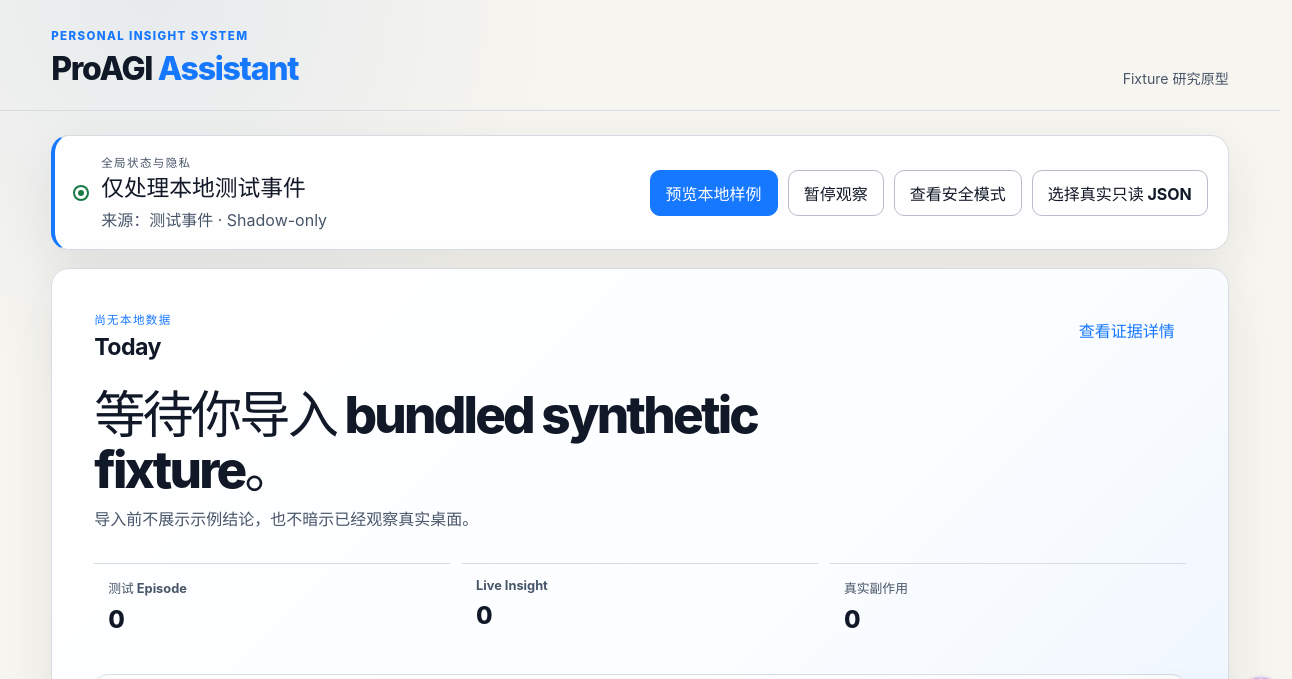
Test case: runnable Insight Loop UI › previews and commits the bundled fixture, applies a correction, then replays
The width and height of the screenshot is (1292, 679).
Click the button "预览本地样例": x=714, y=192 [650,170,778,216]
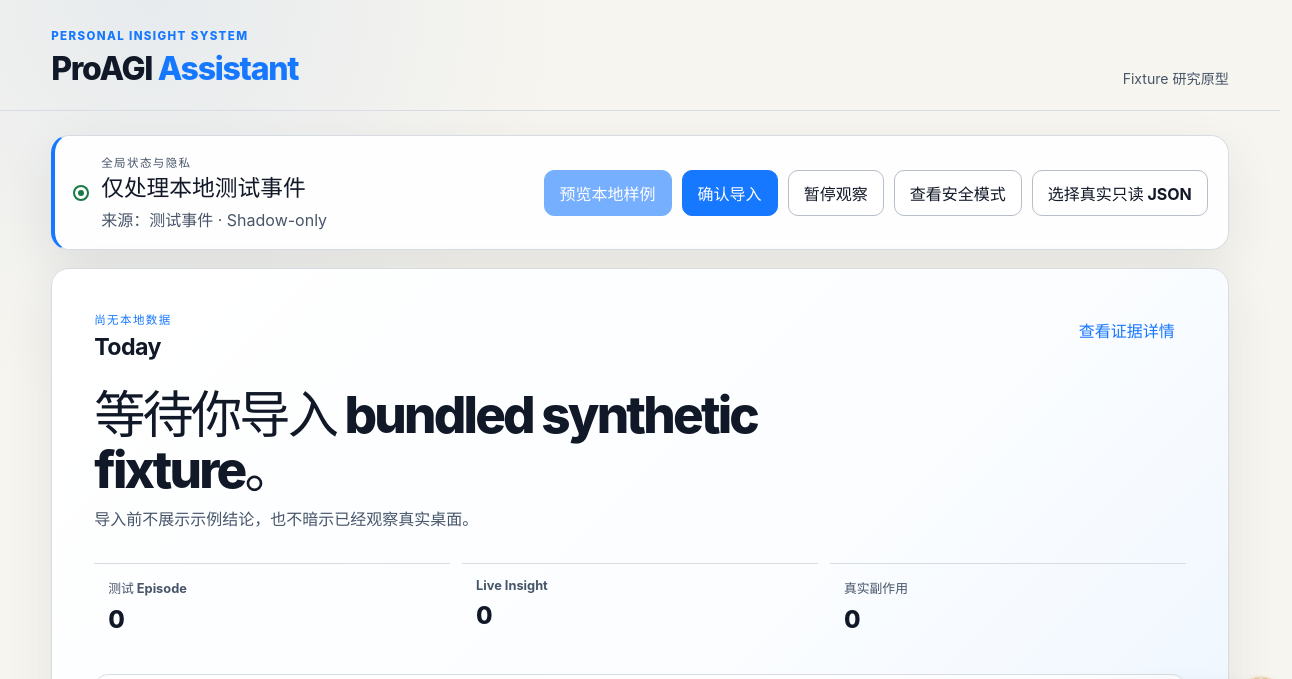
Click the button "确认导入": x=730, y=192 [682,170,778,216]
(page scrolled)
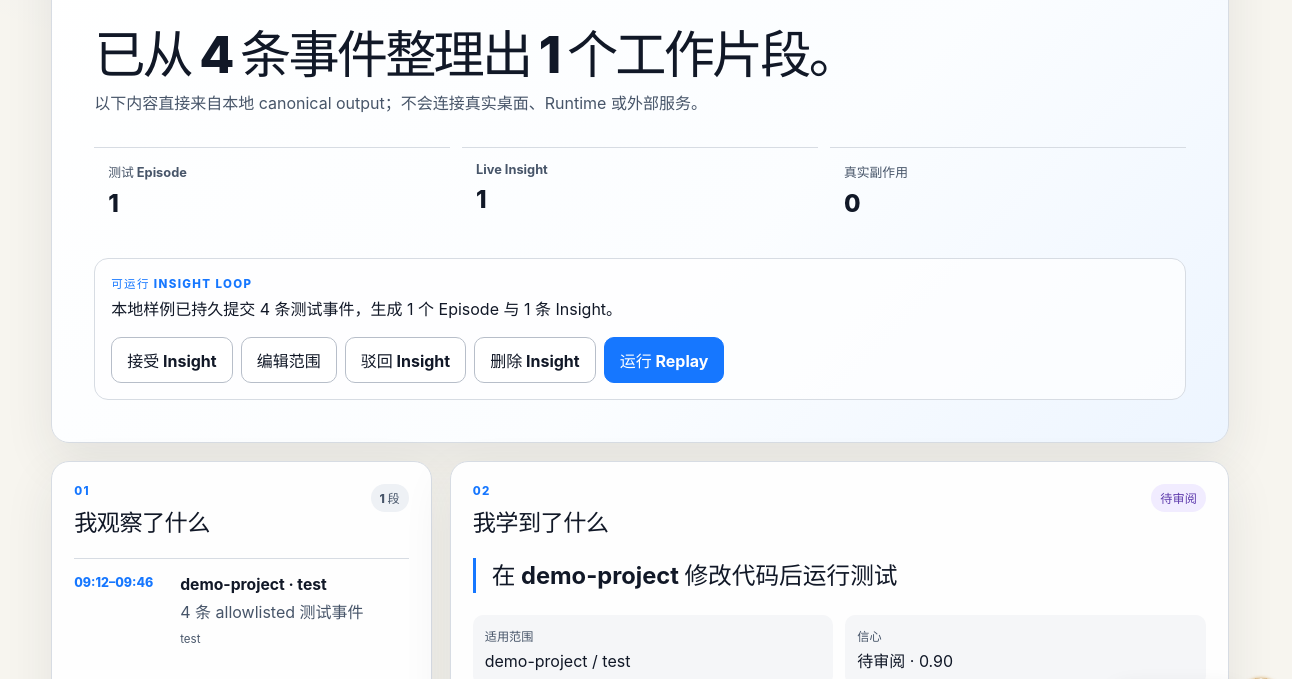
Check: the text "本地样例已持久提交 4 条测试事件，生成 1 个 Episode 与 1 条 Insight。" is shown, box [111,299,622,319]
Check: the button "接受 Insight" is enabled
Click the button "接受 Insight": x=172, y=360 [111,337,233,383]
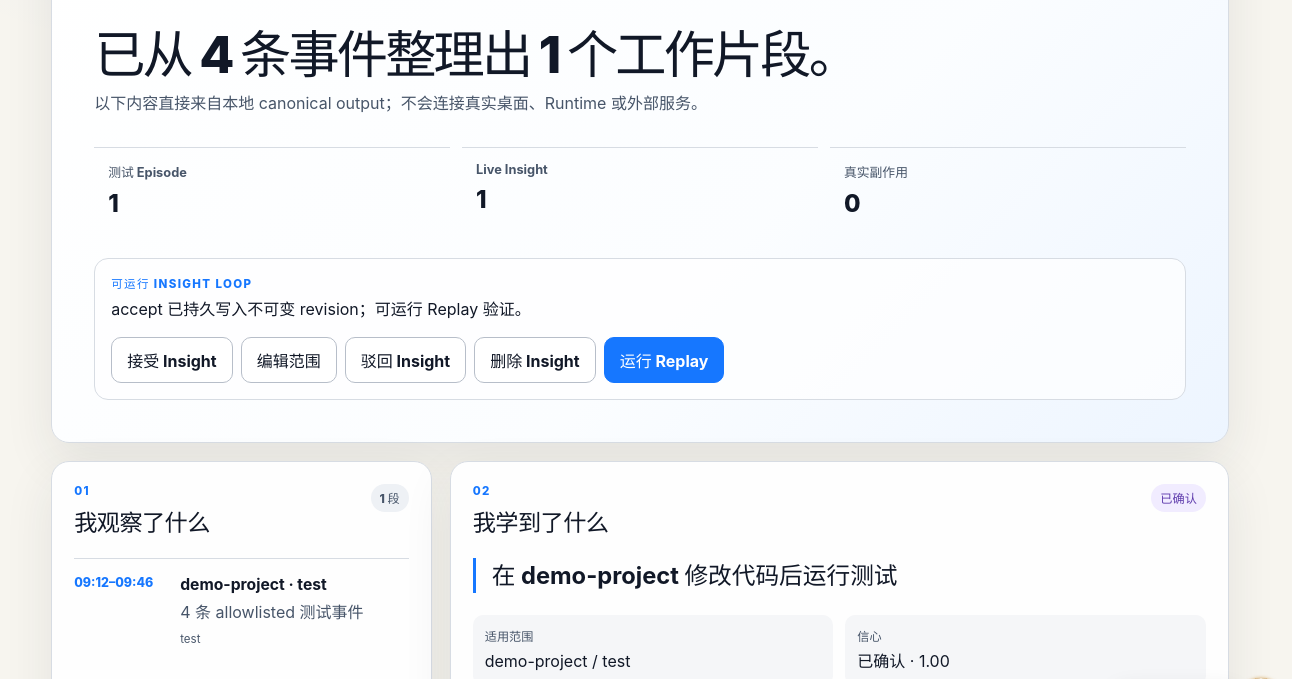
Check: the text "accept 已持久写入不可变 revision；可运行 Replay 验证。" is shown, box [111,299,531,319]
Click the button "运行 Replay": x=664, y=360 [604,337,724,383]
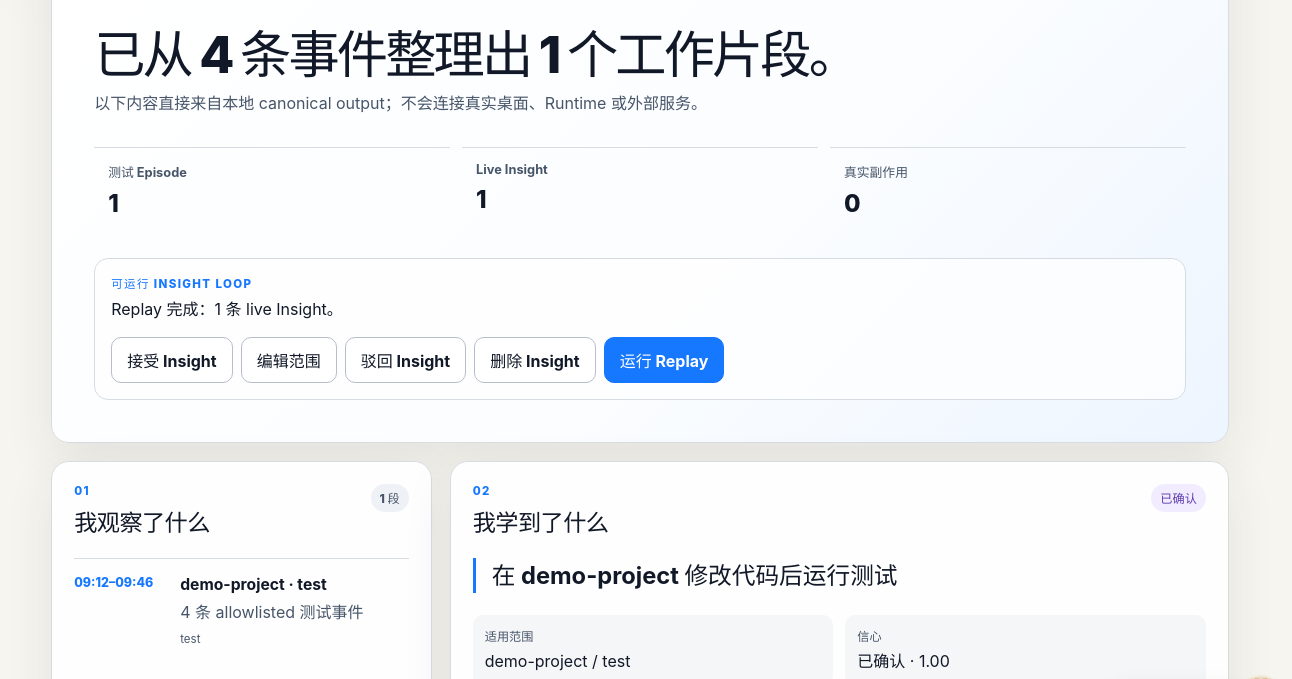
Check: the text "Replay 完成：1 条 live Insight。" is shown, box [111,299,343,319]
